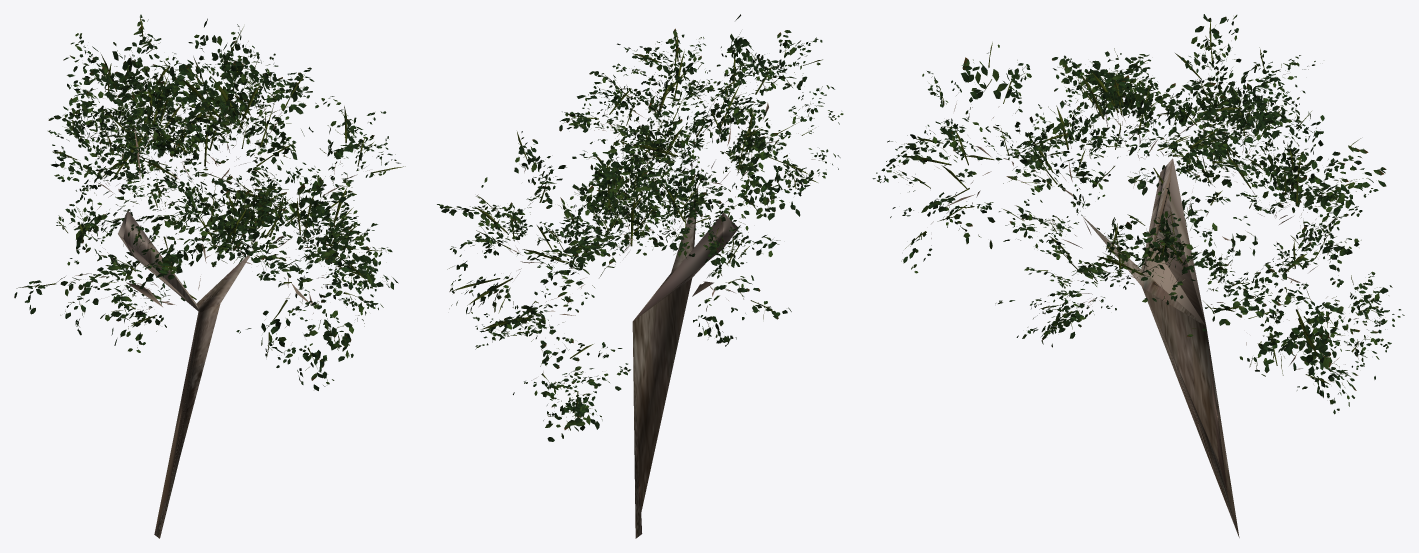
The model's file is tree_small_02_LOD1.glb.
3 views of the same model, side by side, from view 1: azimuth 30°, elevation 25°; view 2: azimuth 150°, elevation 25°; view 3: azimuth 270°, elevation 25° (orthographic). The views are drawn at different scales.
Visible parts, largest first — view 1: tree_small_02_LOD1; view 2: tree_small_02_LOD1; view 3: tree_small_02_LOD1.
Part boxes in pixels (left/top/right/bottom): tree_small_02_LOD1: left=14, top=14, right=405, bottom=538; tree_small_02_LOD1: left=437, top=14, right=843, bottom=538; tree_small_02_LOD1: left=872, top=14, right=1404, bottom=537.
Bounding box in the file's own units: 2.89 × 4.32 × 4.27.
Materials: 3 (3 with a texture image).
